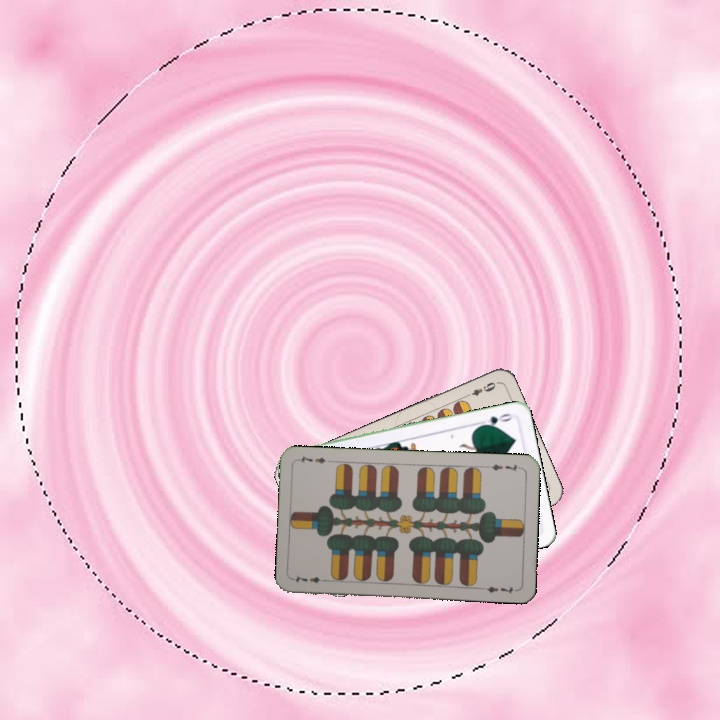E7: (290, 571, 331, 586), (483, 460, 524, 474)
E9: (461, 378, 500, 400)
GO: (475, 409, 515, 429)
